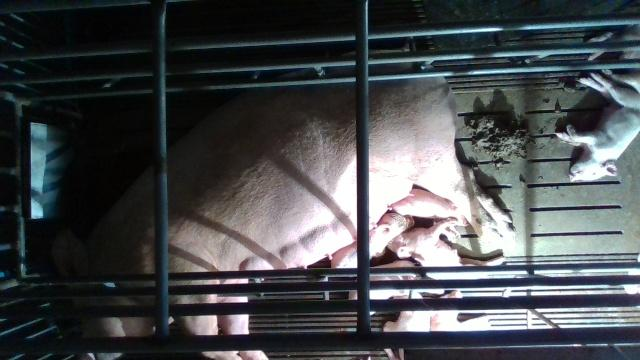piglet: (555, 72, 640, 184), (386, 218, 507, 283), (348, 259, 445, 317), (588, 0, 640, 93), (328, 213, 415, 267), (381, 291, 429, 358), (389, 188, 471, 226), (431, 288, 496, 330)
sow-sleep-lactate: (51, 64, 510, 360)
